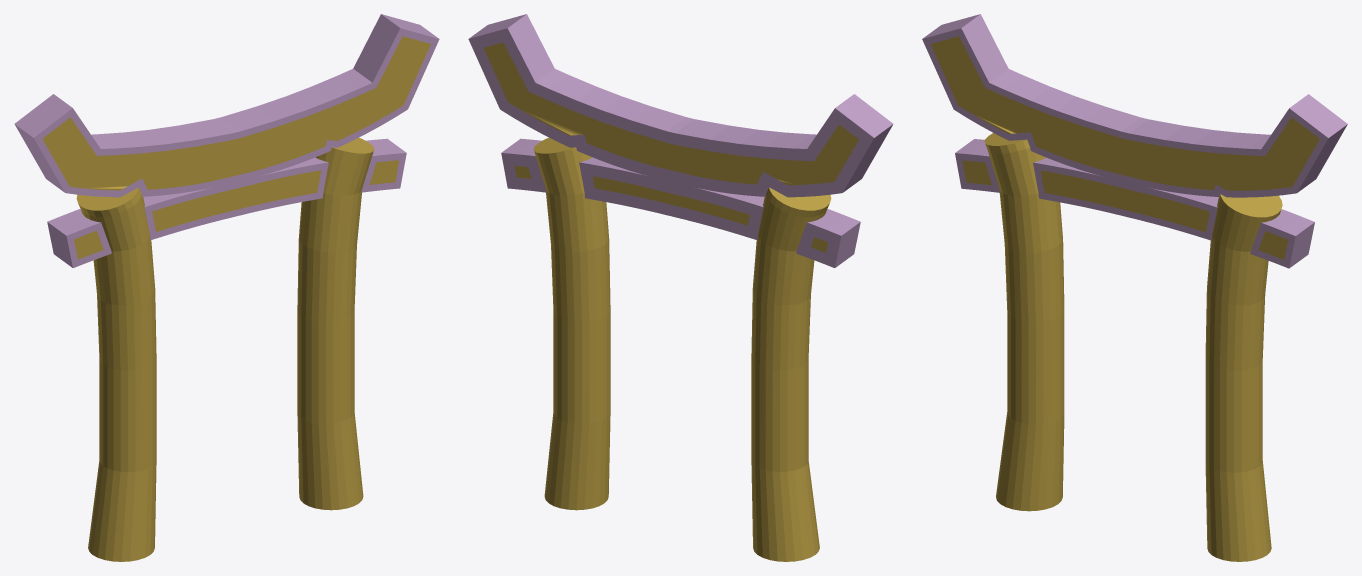
Rendered from Timber.fbx.
3 views of the same model, side by side, from view 1: azimuth 30°, elevation 25°; view 2: azimuth 150°, elevation 25°; view 3: azimuth 330°, elevation 25° (orthographic).
Parts seen in each view (by area): view 1: Prop_Archway_Timber_Asian_Elven_01.001, Prop_Archway_Timber_Asian_Elven_01; view 2: Prop_Archway_Timber_Asian_Elven_01.001, Prop_Archway_Timber_Asian_Elven_01; view 3: Prop_Archway_Timber_Asian_Elven_01.001, Prop_Archway_Timber_Asian_Elven_01.
Boxes of the visible parts, x1,y1,x2,y2 form: Prop_Archway_Timber_Asian_Elven_01.001: (42,36,430,561); Prop_Archway_Timber_Asian_Elven_01: (14,14,439,267); Prop_Archway_Timber_Asian_Elven_01.001: (483,42,858,561); Prop_Archway_Timber_Asian_Elven_01: (468,14,893,267); Prop_Archway_Timber_Asian_Elven_01.001: (930,36,1319,561); Prop_Archway_Timber_Asian_Elven_01: (922,14,1347,268).
Bounding box in the file's own units: 481 × 523 × 68.72.
